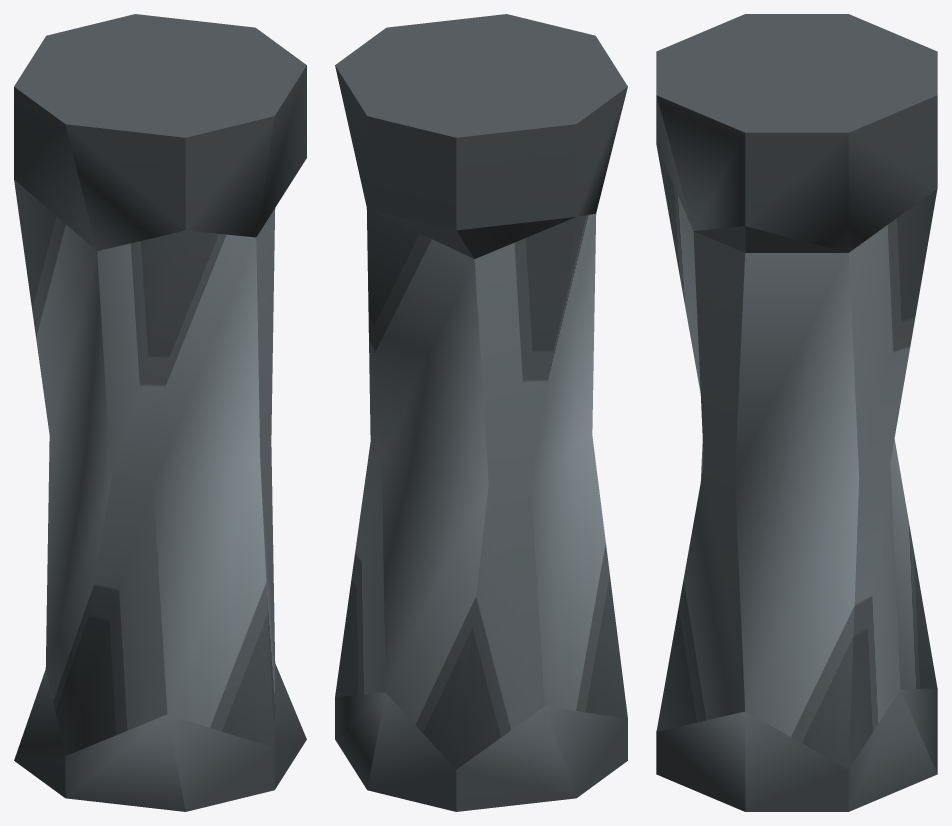
File: pillar-mid.glb
3 renders of one model, left to right at view 1: azimuth 30°, elevation 25°; view 2: azimuth 150°, elevation 25°; view 3: azimuth 270°, elevation 25°, orthographic.
Visible parts, largest first — view 1: pillar; view 2: pillar; view 3: pillar.
Part boxes in pixels (<box>): pillar: <box>14,14,306,811</box>; pillar: <box>335,14,627,811</box>; pillar: <box>656,14,937,811</box>.
Size of the model in its own units: 1.5 by 4 by 1.5.
1 material, 1 textured.
